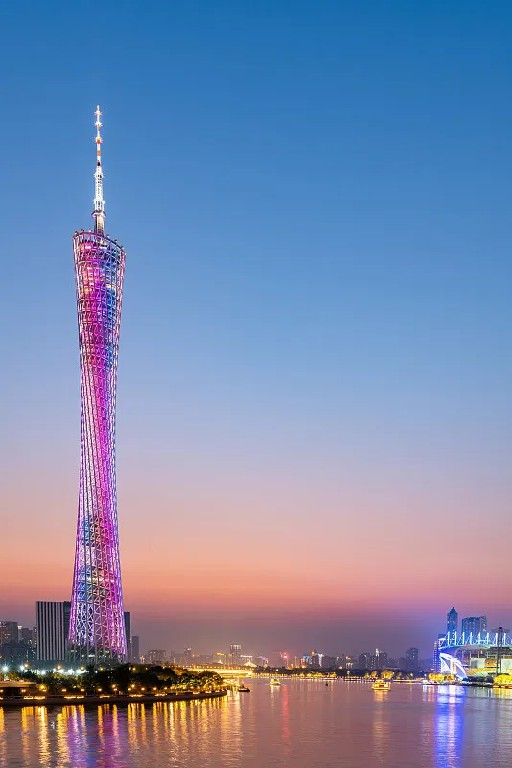Canton: (67, 102, 131, 661)
